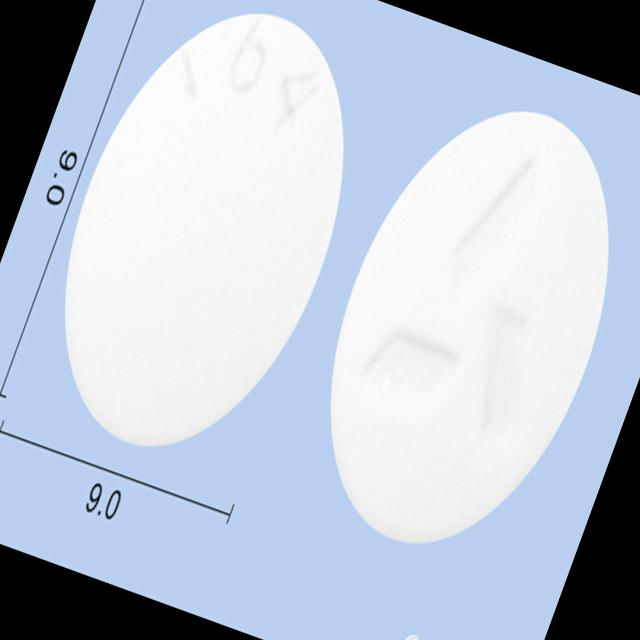Rulid Tab: (9, 0, 400, 483), (276, 72, 640, 583)
